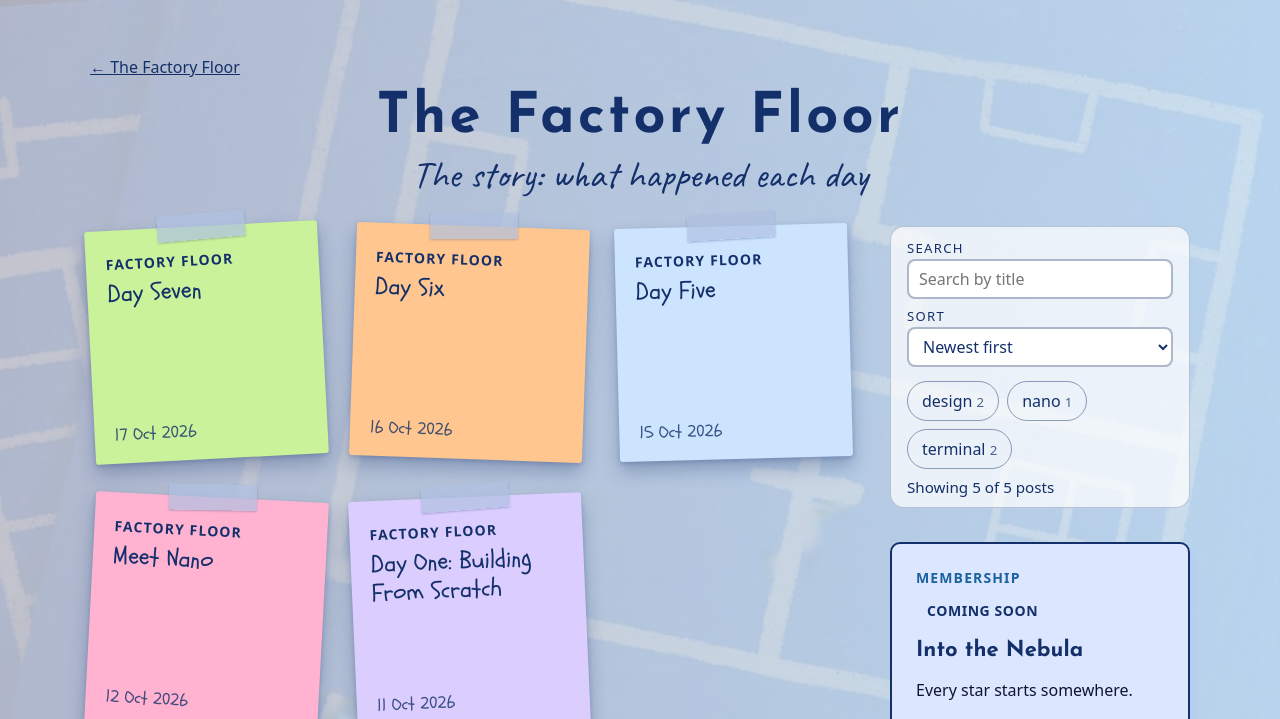
Test case: the filter on the list pages › filters as you type, and says how many are showing
Type "day" into the search field labelled "Search".
click(1040, 279); type("day")  # box [907,259,1173,299]
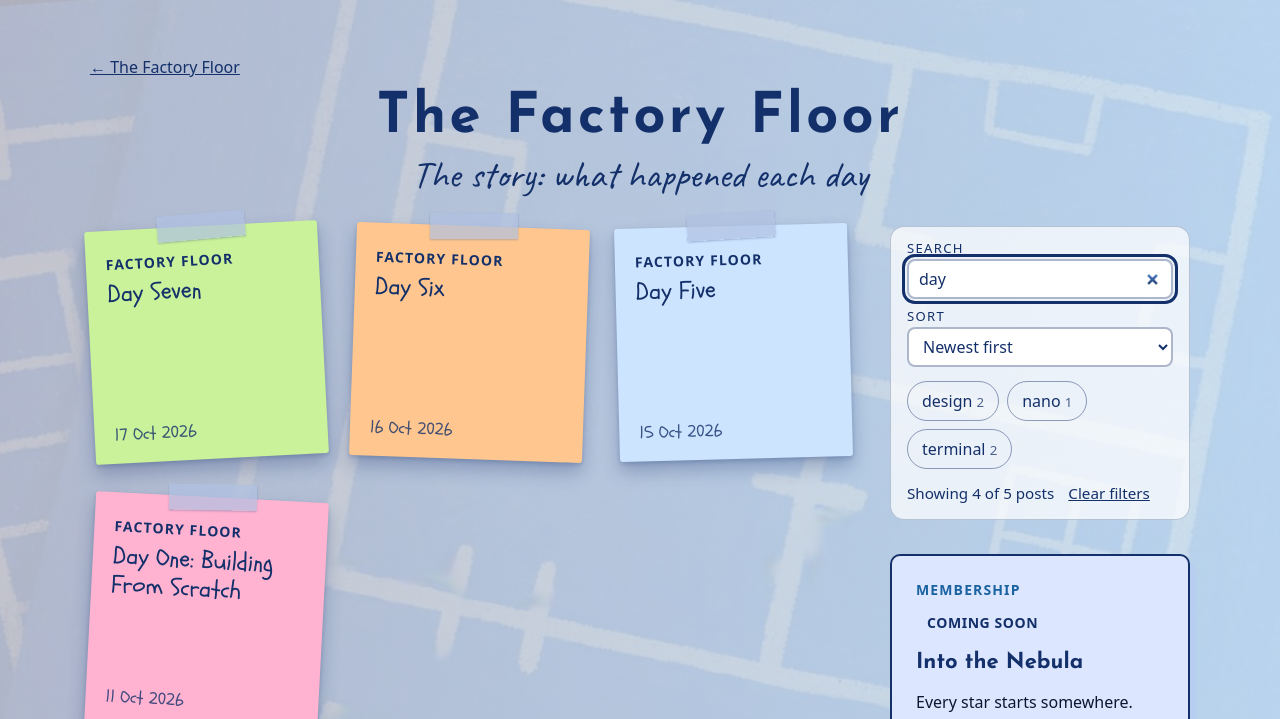
Check: the message shows "Showing 4 of 5 posts", box [907,477,1173,509]
